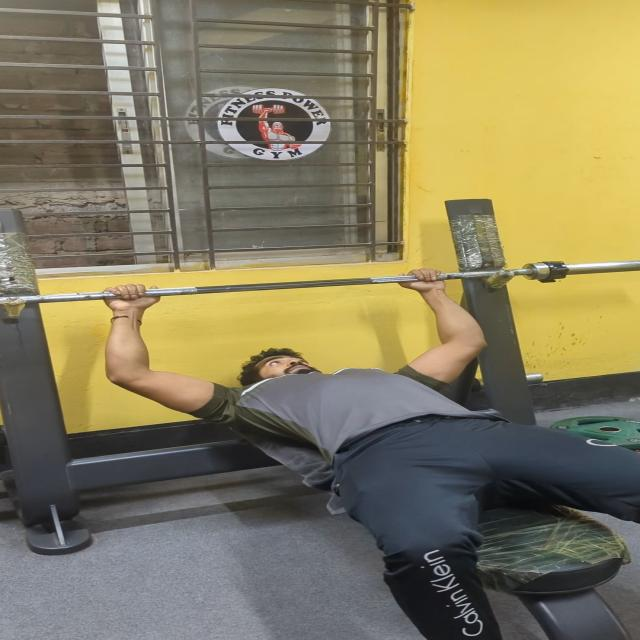Normal_BrenchPress: (59, 229, 640, 640)
